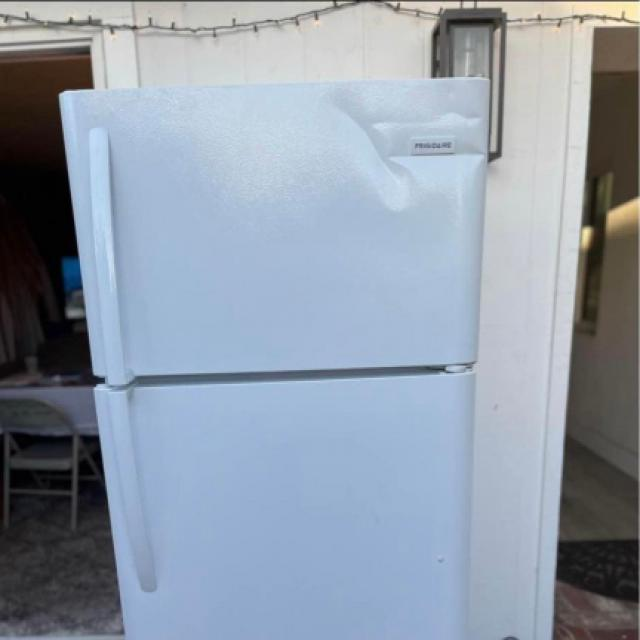dents: (333, 96, 471, 230)
